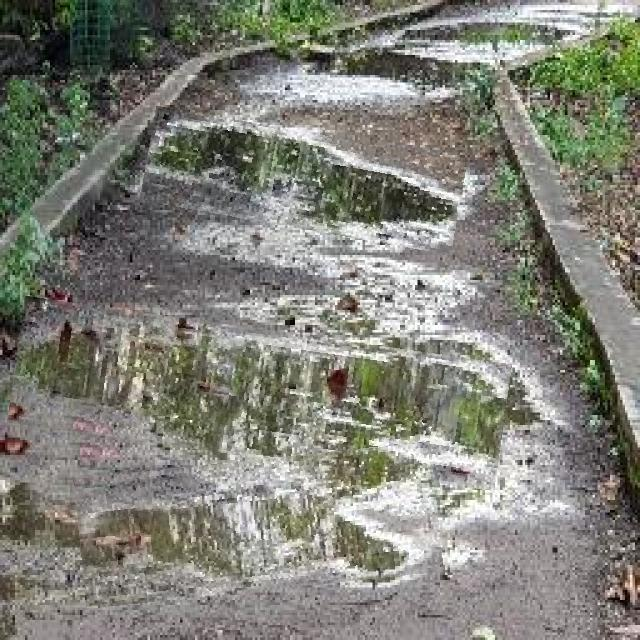puddle: (12, 315, 510, 476), (77, 451, 442, 600), (144, 121, 466, 243)
